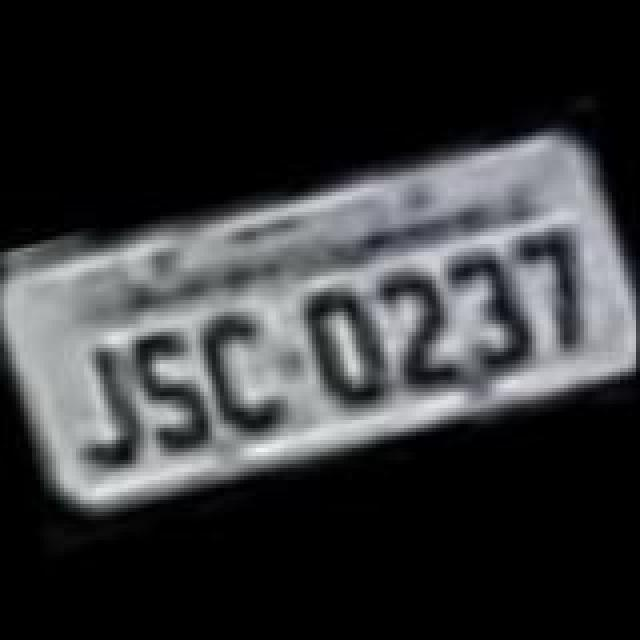2: (360, 252, 468, 396)
3: (434, 234, 538, 378)
7: (508, 218, 608, 358)
C: (192, 302, 288, 438)
J: (58, 332, 150, 476)
O: (294, 276, 390, 420)
S: (116, 312, 220, 452)
